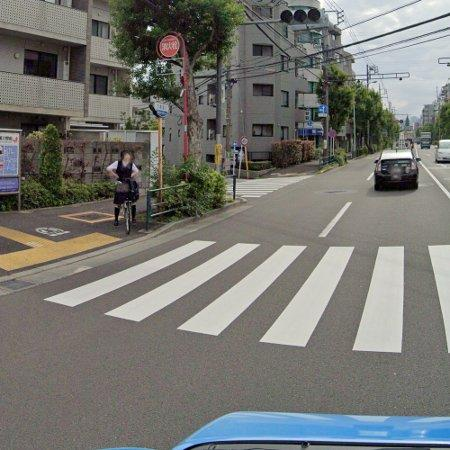crosswalks: (39, 238, 450, 354)
